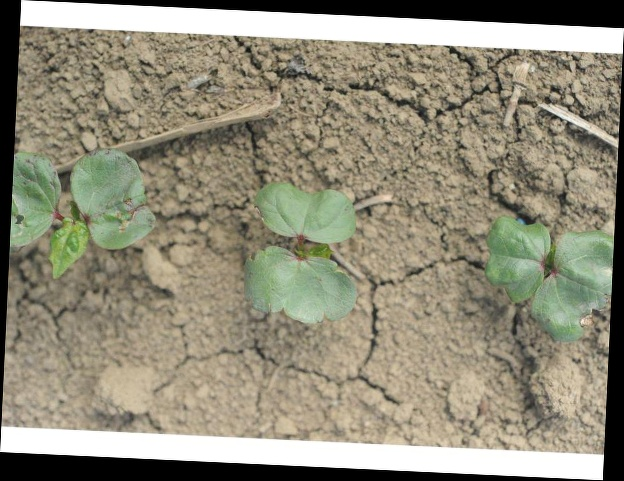cotton: (11, 148, 154, 282), (242, 181, 360, 325), (481, 218, 612, 344)
